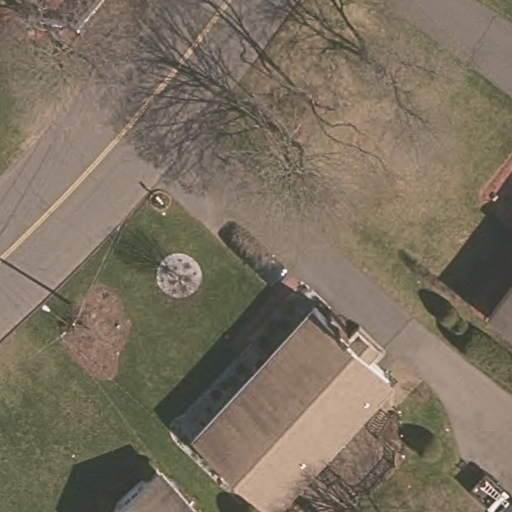DT: (40, 299, 87, 342)
